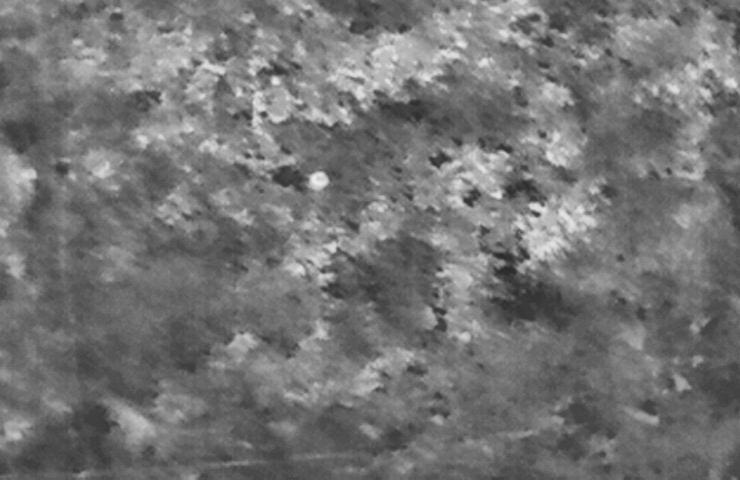landmines: (303, 170, 333, 194)
